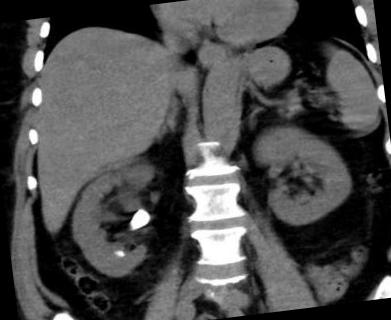Tas_Var: (124, 205, 152, 232), (117, 250, 124, 255), (118, 252, 125, 256)
